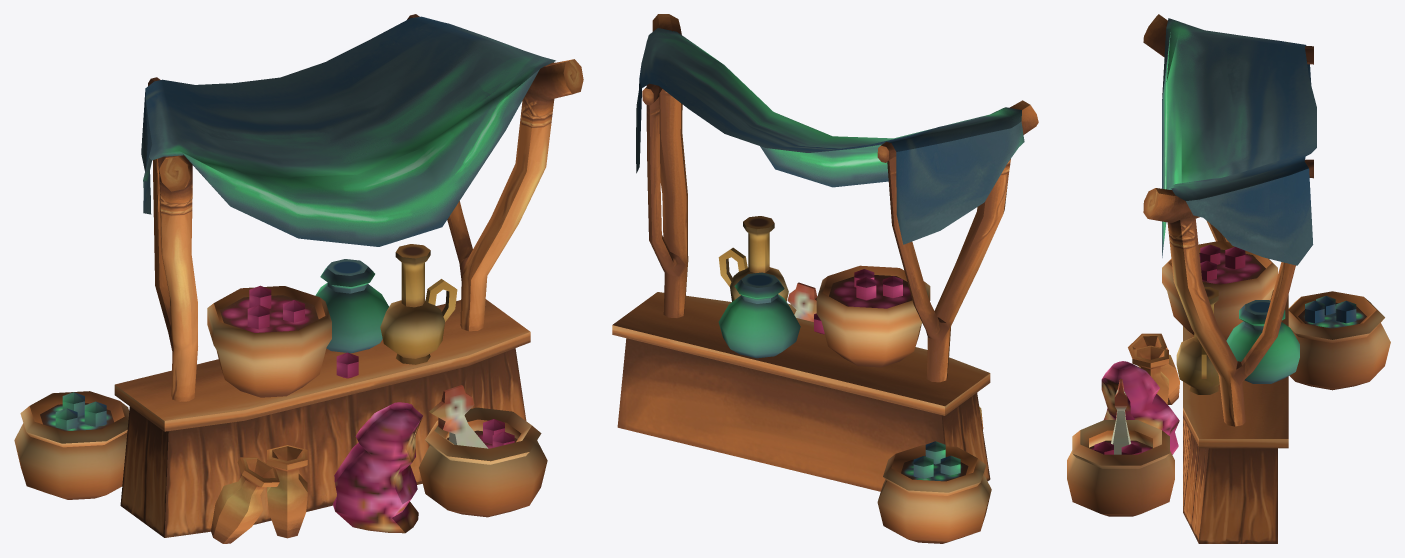
Rendered from agraba_market_shop.obj.
3 renders of one model, left to right at view 1: azimuth 30°, elevation 25°; view 2: azimuth 150°, elevation 25°; view 3: azimuth 270°, elevation 25°, orthographic. The views are drawn at different scales.
Parts seen in each view (by area): view 1: obj2; view 2: obj2; view 3: obj2.
Part boxes in pixels (left/top/right/bottom): obj2: left=14, top=14, right=583, bottom=543; obj2: left=612, top=14, right=1038, bottom=543; obj2: left=1067, top=14, right=1390, bottom=543.
Size of what is drawn, in the model's own units: 3.04 by 2.53 by 2.05.
Materials: 1 (1 with a texture image).
